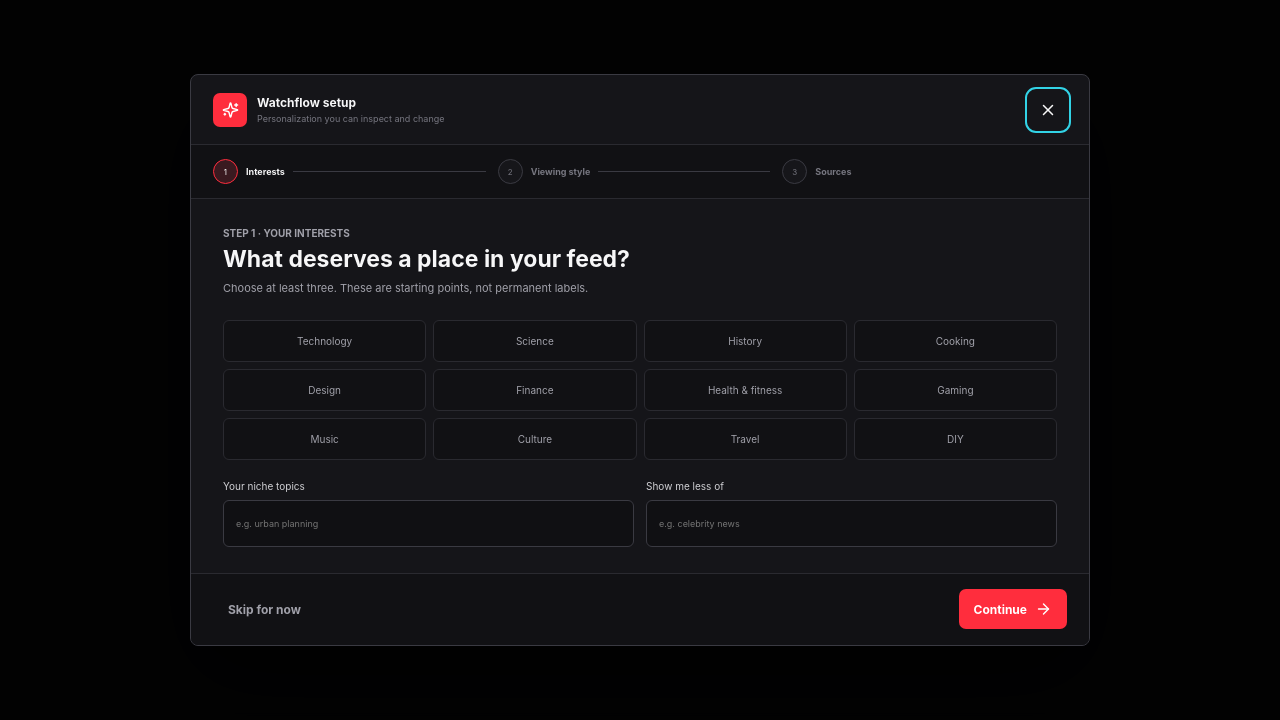
Test case: OnboardingModal › requires at least three interests before continuing
Click the button "Continue" at (1013, 609), box 958,589 -> 1067,629
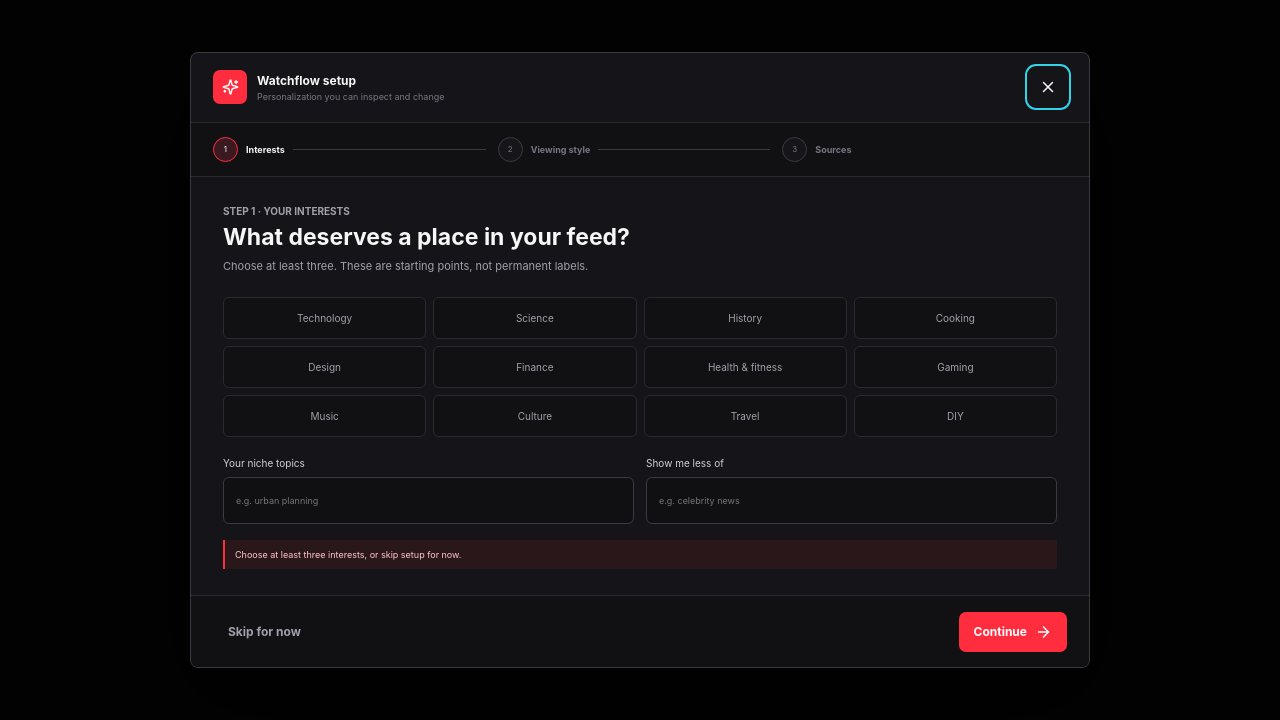
Result: the message shows "at least three interests" at 235,549 -> 461,560
